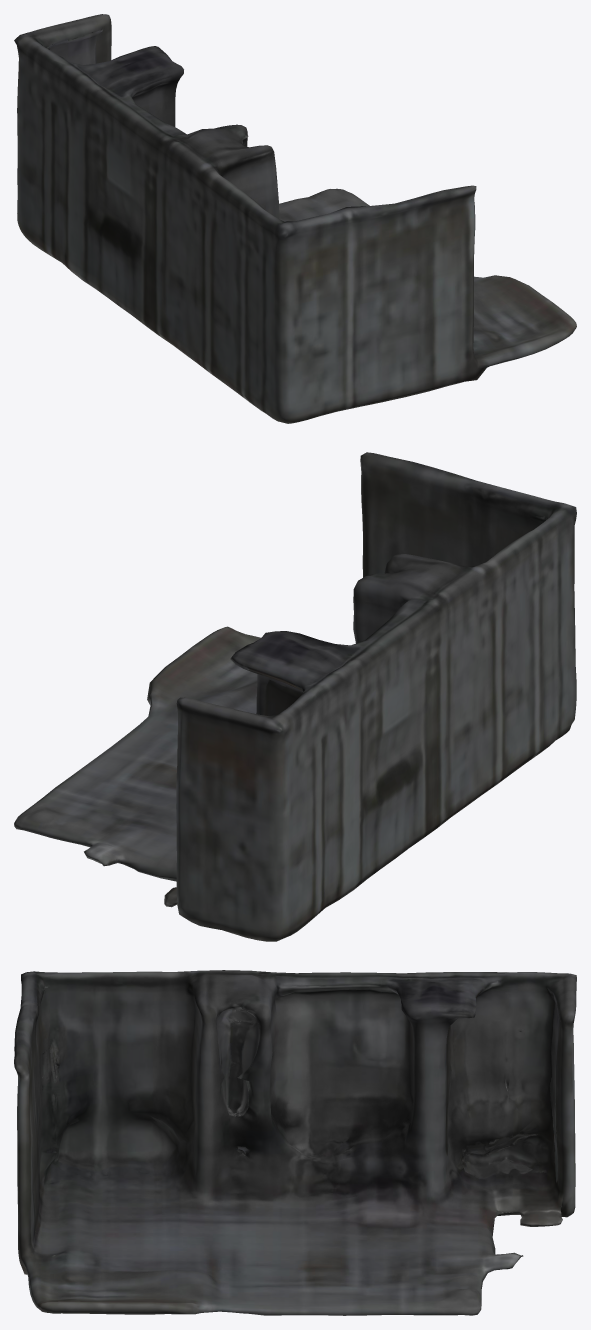
The model's file is abandoned_building1.glb.
The picture shows the model from 3 angles, top to bottom: view 1: azimuth 30°, elevation 25°; view 2: azimuth 150°, elevation 25°; view 3: azimuth 270°, elevation 25°; orthographic projection. The views are drawn at different scales.
Visible parts, largest first — view 1: mesh; view 2: mesh; view 3: mesh.
Part boxes in pixels (left/top/right/bottom): mesh: left=14, top=14, right=576, bottom=423; mesh: left=14, top=452, right=576, bottom=941; mesh: left=14, top=970, right=576, bottom=1315.
Bounding box in the file's own units: 0.6585 × 0.4249 × 0.9946.
Materials: 1 (1 with a texture image).
